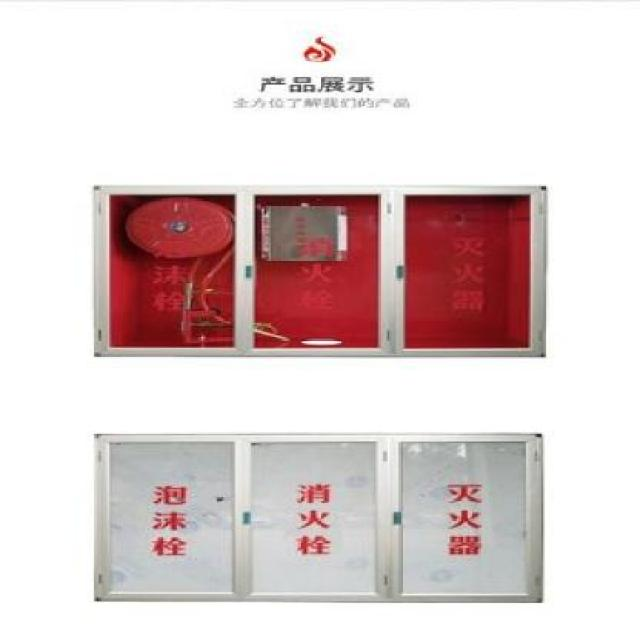firehydrant: (84, 181, 554, 364), (83, 428, 552, 606)
